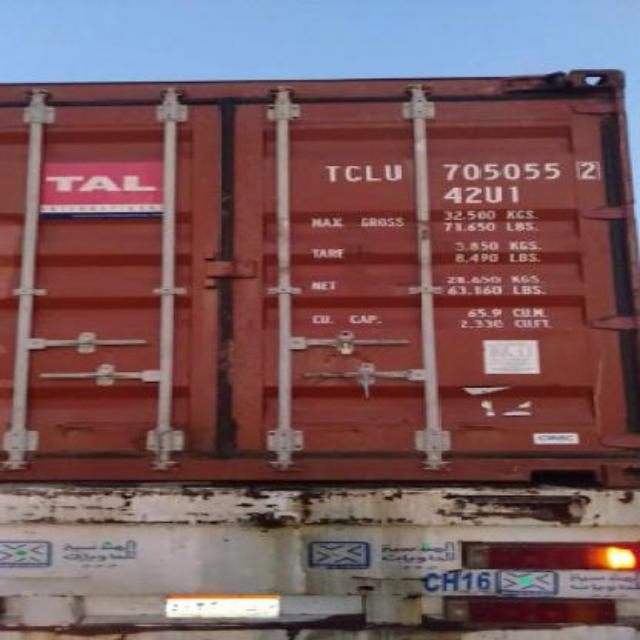0: (460, 156, 480, 184), (502, 156, 522, 182)
2: (576, 160, 608, 182)
5: (520, 154, 542, 183), (542, 154, 560, 182), (480, 157, 500, 181)
7: (436, 156, 460, 180)
C: (344, 159, 364, 185)
L: (360, 159, 380, 183)
T: (320, 159, 344, 185)
U: (380, 160, 404, 184)
